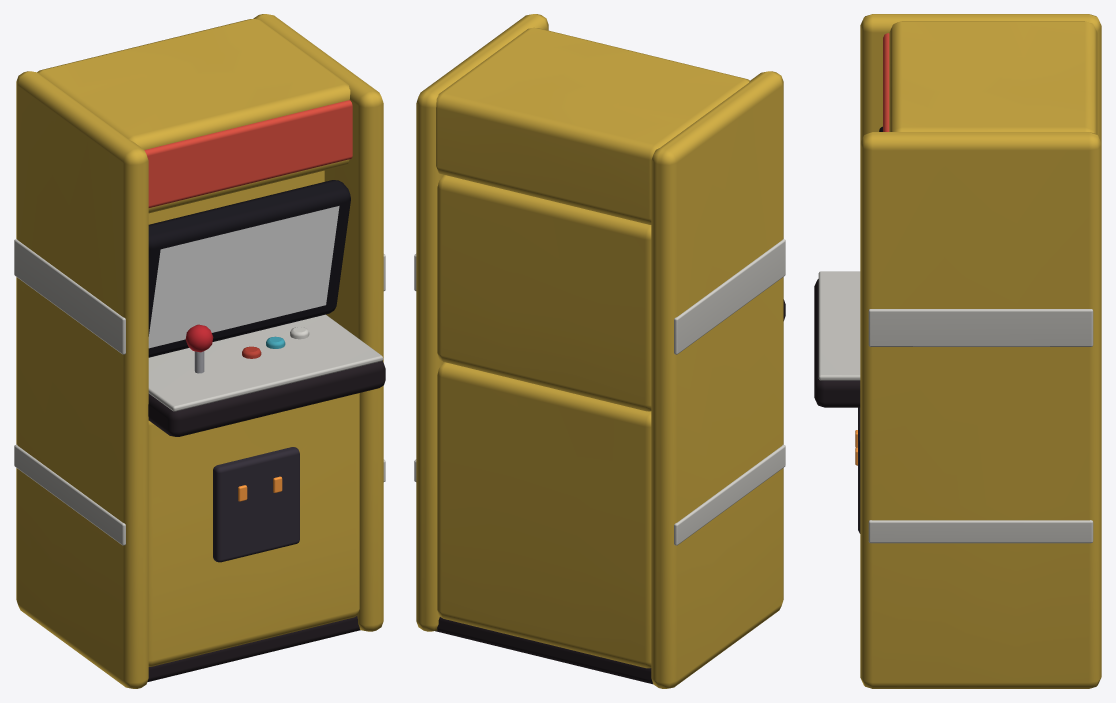
Rendered from furn_cab_noodle.glb.
3 renders of one model, left to right at view 1: azimuth 30°, elevation 25°; view 2: azimuth 150°, elevation 25°; view 3: azimuth 270°, elevation 25°, orthographic. The views are drawn at different scales.
Visible parts, largest first — view 1: furn_cab_noodle_main, furn_cab_noodle_screen, furn_cab_noodle_glow; view 2: furn_cab_noodle_main; view 3: furn_cab_noodle_main, furn_cab_noodle_glow.
Boxes of the visible parts, box(x1,y1,x2,y2) form: furn_cab_noodle_main: box(14, 14, 385, 688); furn_cab_noodle_screen: box(148, 206, 339, 348); furn_cab_noodle_glow: box(144, 100, 352, 501); furn_cab_noodle_main: box(414, 14, 785, 688); furn_cab_noodle_main: box(814, 14, 1101, 688); furn_cab_noodle_glow: box(855, 33, 889, 465).
Size of the model in its own units: 0.752 by 1.47 by 0.69.
